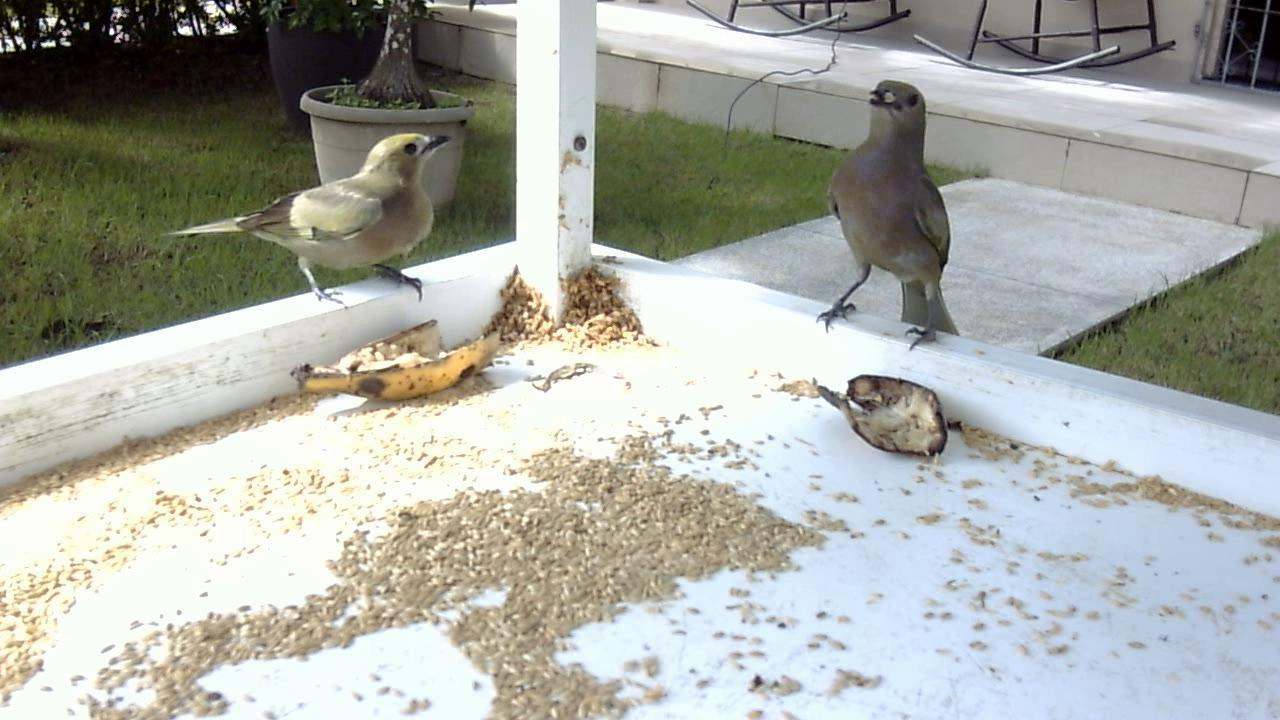sanhaco_do_coqueiro: (160, 124, 468, 316), (800, 74, 971, 354)
